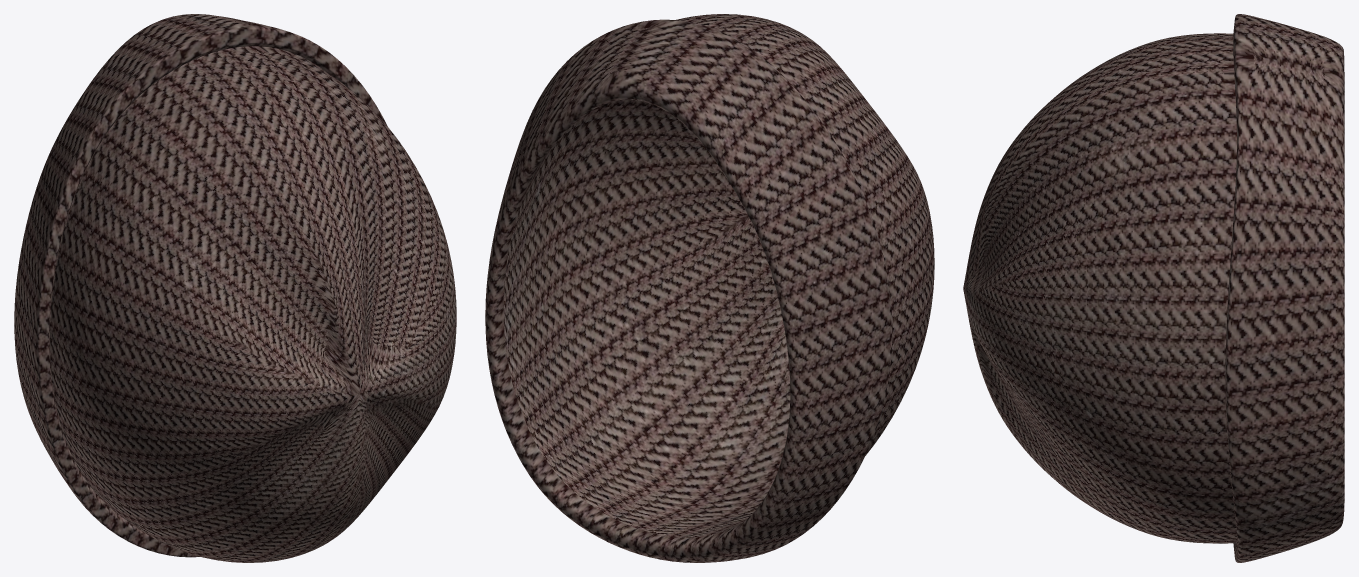
The model's file is 10156_WinterKnitCap_v1-L3.obj.
The picture shows the model from 3 angles, left to right: view 1: azimuth 30°, elevation 25°; view 2: azimuth 150°, elevation 25°; view 3: azimuth 270°, elevation 25°; orthographic projection. The views are drawn at different scales.
Visible parts, largest first — view 1: WinterKnitCap; view 2: WinterKnitCap; view 3: WinterKnitCap.
Part boxes in pixels (<box>): WinterKnitCap: <box>14,14,456,562</box>; WinterKnitCap: <box>485,14,934,562</box>; WinterKnitCap: <box>963,14,1344,562</box>.
Size of the model in its own units: 6.93 by 9.15 by 6.11.
Materials: 1 (1 with a texture image).
